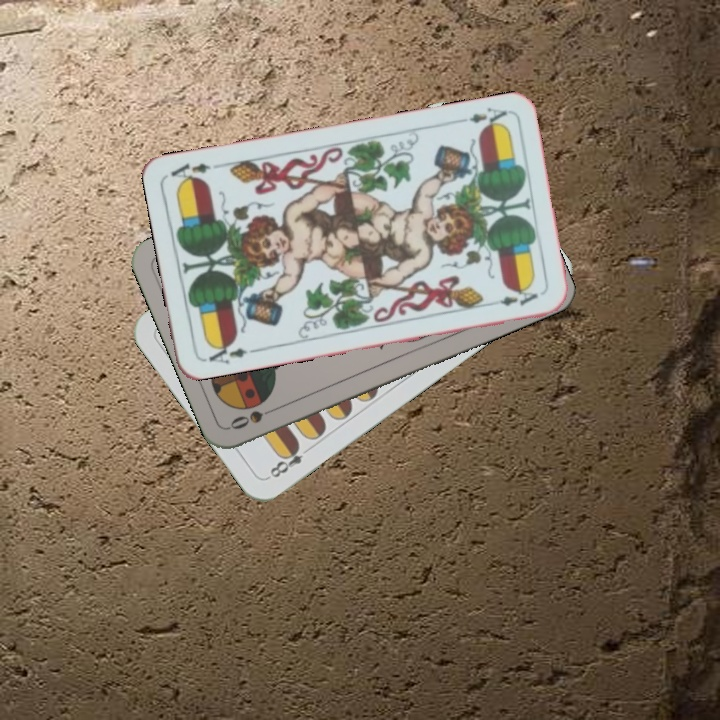E8: (264, 439, 315, 481)
EA: (452, 103, 510, 132), (204, 338, 250, 367)
SO: (226, 402, 283, 432)
